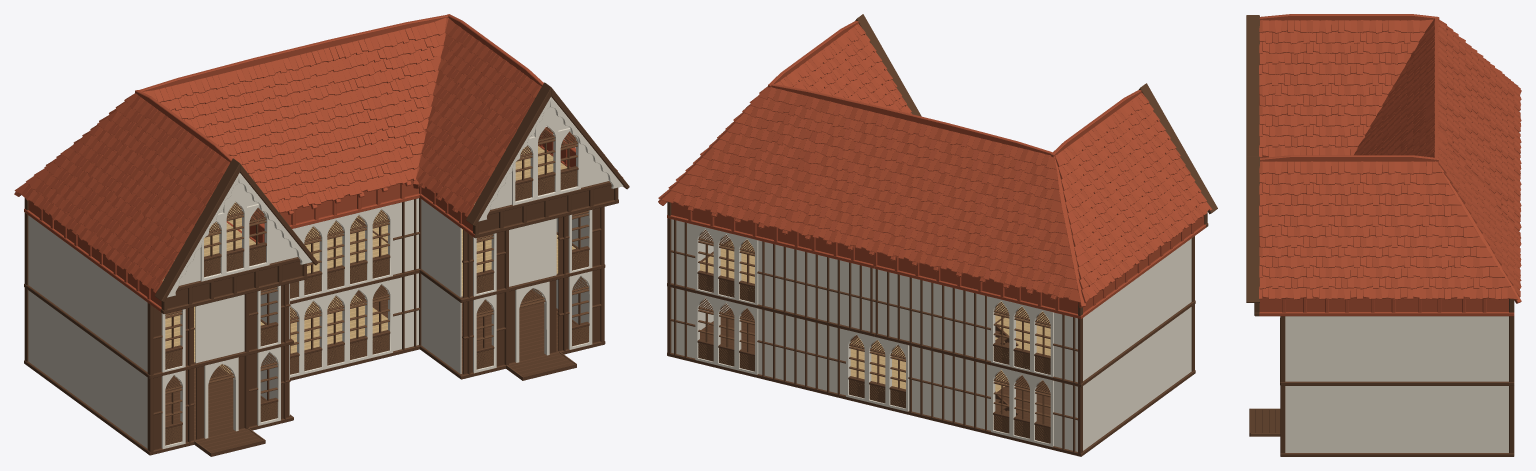
File: house-split.glb
3 renders of one model, left to right at view 1: azimuth 30°, elevation 25°; view 2: azimuth 150°, elevation 25°; view 3: azimuth 270°, elevation 25°, orthographic. The views are drawn at different scales.
Parts seen in each view (by area): view 1: ROOF_01, WALL_01, TRIM_01, WINDOW_01, FLOOR_01; view 2: ROOF_01, WALL_01, TRIM_01, WINDOW_01, FLOOR_01; view 3: ROOF_01, WALL_01, TRIM_01.
Boxes of the visible parts, box(x1,y1,x2,y2) form: ROOF_01: box(14, 14, 622, 311); WALL_01: box(28, 97, 623, 448); TRIM_01: box(24, 82, 629, 456); WINDOW_01: box(165, 127, 589, 455); FLOOR_01: box(162, 146, 575, 375); ROOF_01: box(658, 21, 1212, 318); WALL_01: box(671, 219, 1191, 451); TRIM_01: box(667, 14, 1217, 456); WINDOW_01: box(698, 229, 1050, 443); FLOOR_01: box(700, 239, 1050, 392); ROOF_01: box(1259, 14, 1521, 316); WALL_01: box(1285, 316, 1508, 452); TRIM_01: box(1246, 15, 1514, 456).
Size of the model in its own units: 19.71 by 11.6 by 10.75.
